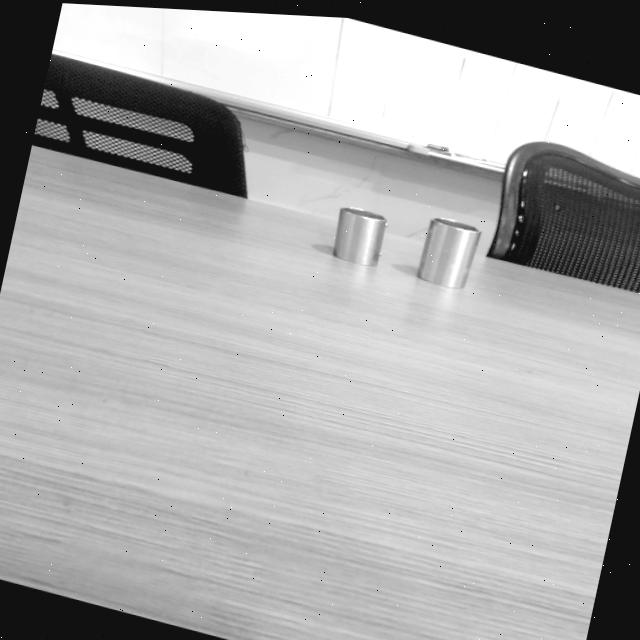Co_Lon: (412, 213, 481, 291)
Co_Nho: (329, 204, 387, 267)
